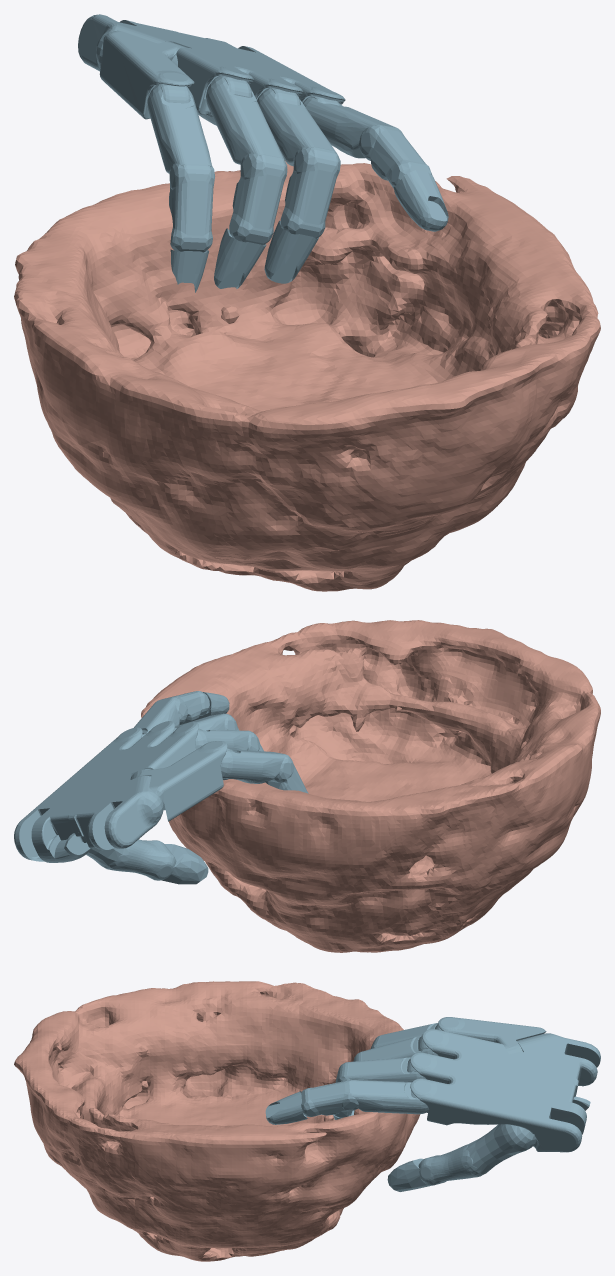
File: 2_joint.glb
3 views of the same model, one above another, from view 1: azimuth 30°, elevation 25°; view 2: azimuth 150°, elevation 25°; view 3: azimuth 270°, elevation 25° (orthographic). The views are drawn at different scales.
Visible parts, largest first — view 1: world; view 2: world; view 3: world.
Part boxes in pixels (x1,y1,x2,y2): world: (14,14,600,591); world: (14,620,600,952); world: (14,981,600,1261).
Bounding box in the file's own units: 1.59 × 1.12 × 2.46.
